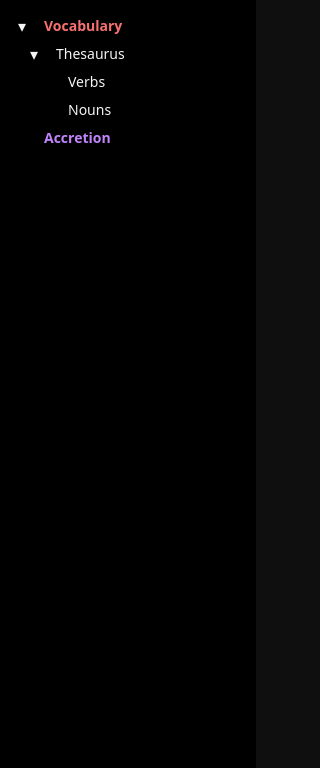
Sidebar › collapses and expands a branch via its accessible toggle
Expected: the link "Verbs" is shown, [68,72,105,91]
Click the button named "collapse thesaurus": coordinates (34, 54) [24,44,44,64]
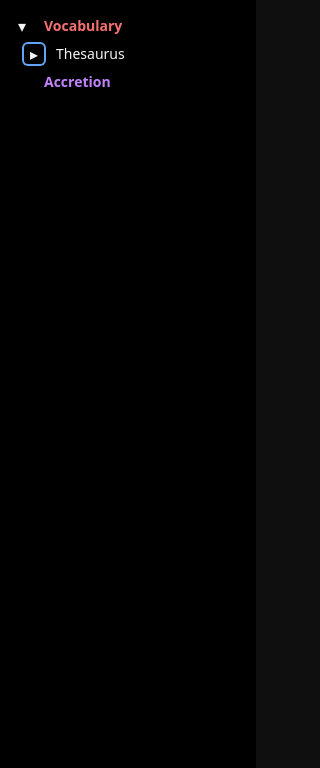
Expected: the button named "expand thesaurus" is collapsed, [24,44,44,64]
Expected: the link "Verbs" is gone
